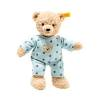teddy: (15, 8, 86, 94)
